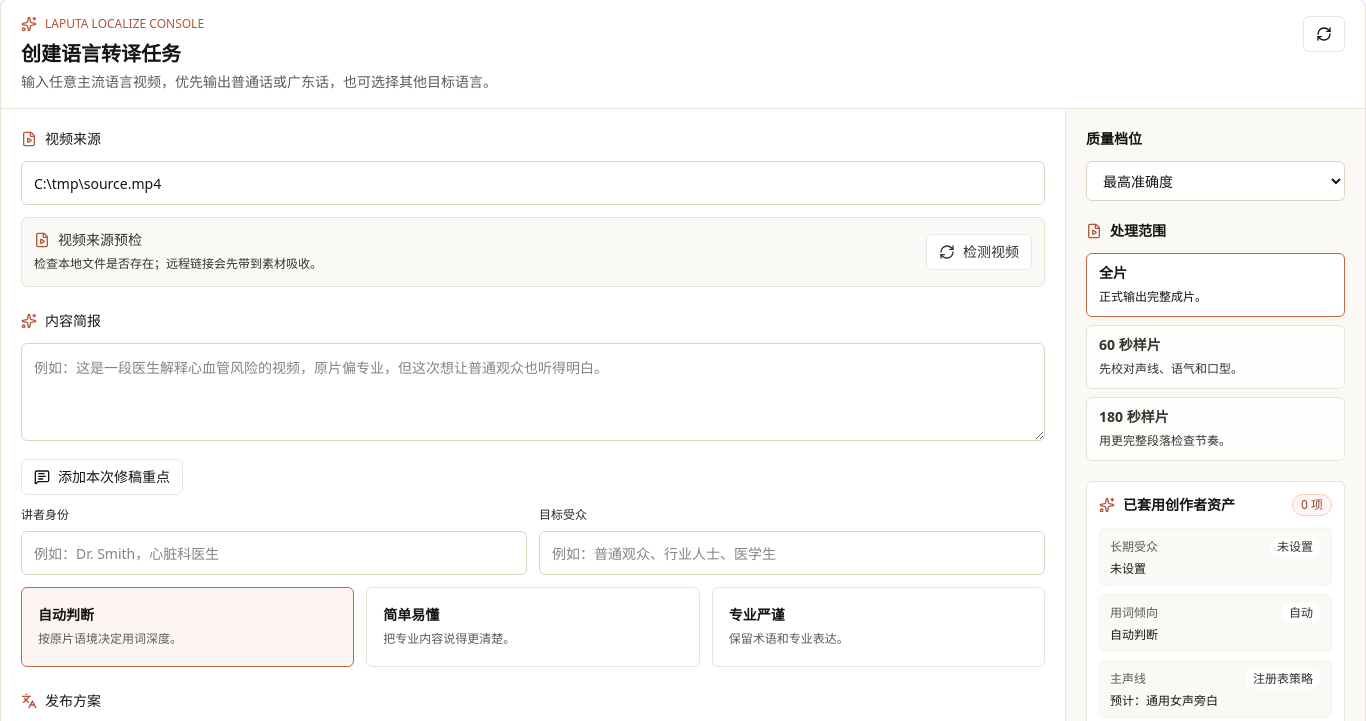
DubbingForm creator assets › resets usage-boundary acknowledgement when automatic voice selection changes
The image size is (1366, 721).
Type "特朗普采访" into the field with placeholder "例如：Dr. Smith，心脏科医生" at x=274, y=553, box [21,531,527,575]
(page scrolled)
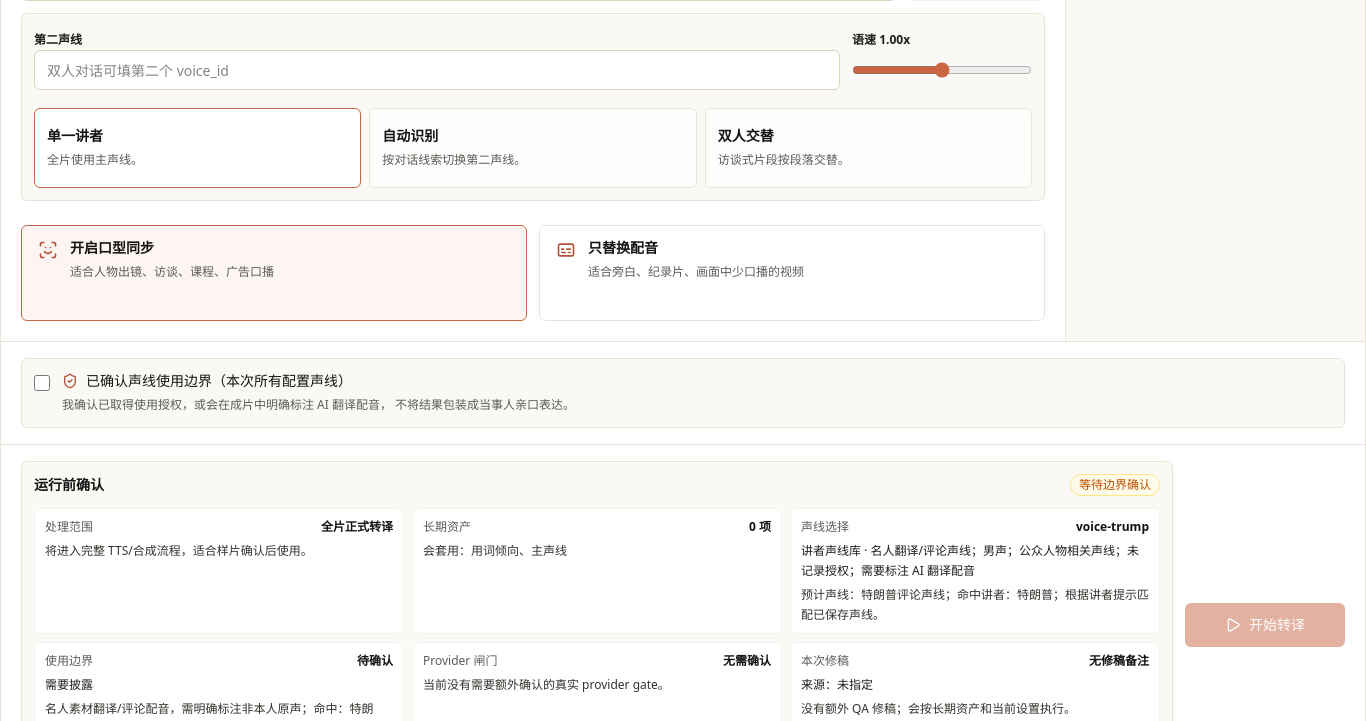
Result: the checkbox labelled "已确认声线使用边界" is not checked at [34,375,50,391]
